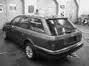car: (2, 15, 83, 61)
